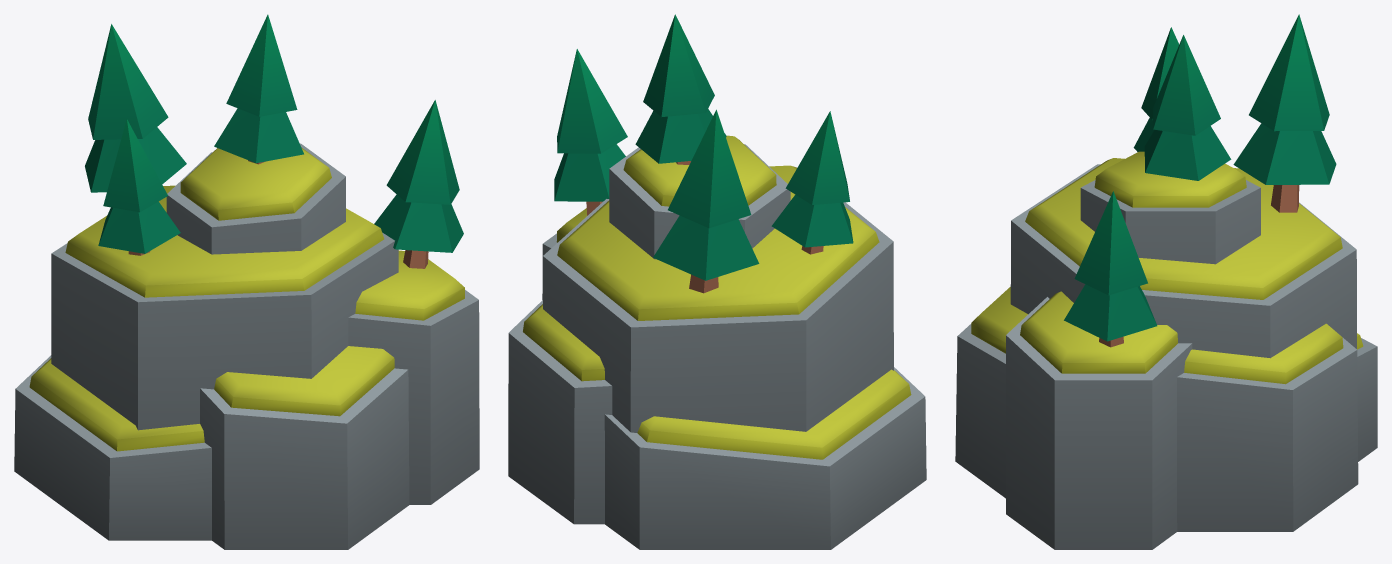
File: mountain_a_grass_trees.glb
3 views of the same model, side by side, from view 1: azimuth 30°, elevation 25°; view 2: azimuth 150°, elevation 25°; view 3: azimuth 270°, elevation 25° (orthographic).
Visible parts, largest first — view 1: mountain_A_grass_trees; view 2: mountain_A_grass_trees; view 3: mountain_A_grass_trees.
Part boxes in pixels (box(x1,y1,x2,y2)): mountain_A_grass_trees: box(14, 14, 479, 549); mountain_A_grass_trees: box(508, 14, 926, 549); mountain_A_grass_trees: box(955, 14, 1377, 549).
Size of the model in its own units: 1.86 by 2.18 by 1.88.
Materials: 1 (1 with a texture image).
